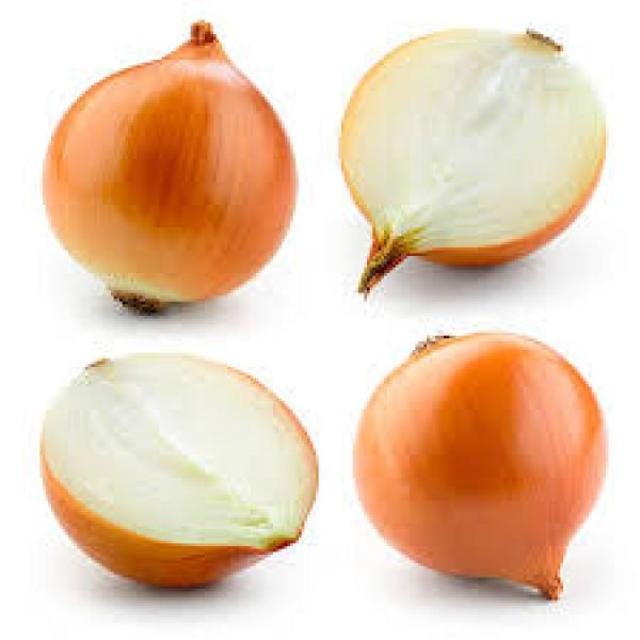Onion: (42, 20, 299, 317), (338, 27, 611, 293), (353, 332, 610, 601), (39, 353, 319, 593)
